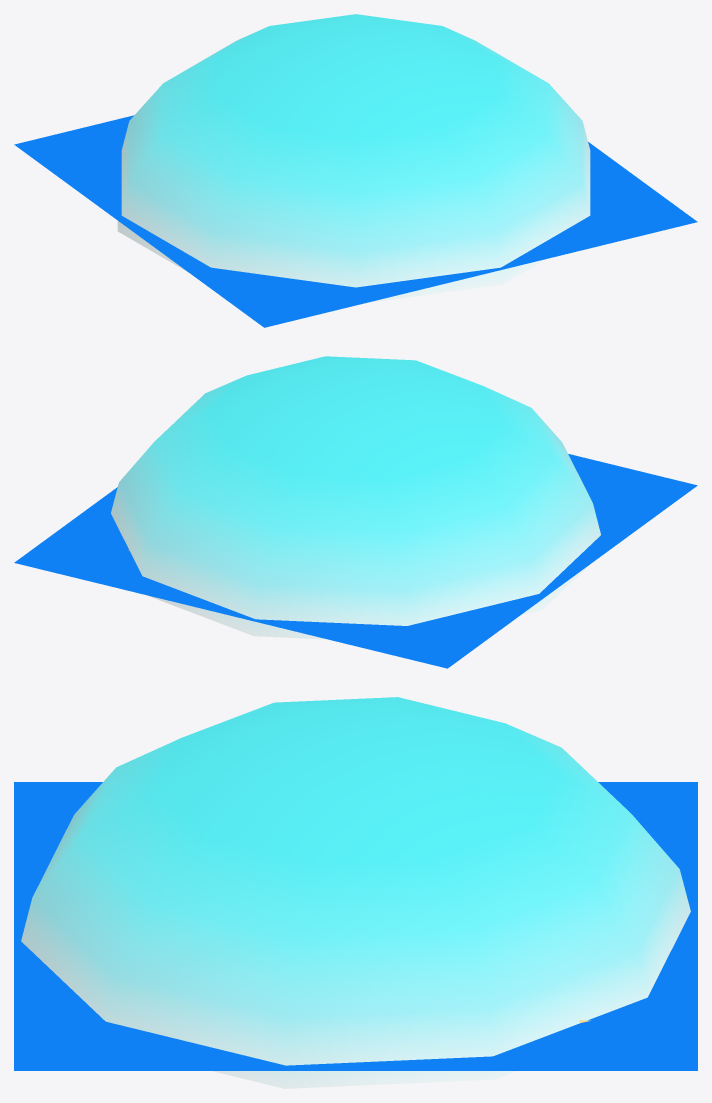
The model's file is skydome-lighthouse.glb.
The picture shows the model from 3 angles, top to bottom: view 1: azimuth 30°, elevation 25°; view 2: azimuth 150°, elevation 25°; view 3: azimuth 270°, elevation 25°; orthographic projection. The views are drawn at different scales.
Parts seen in each view (by area): view 1: Dome, WaterFloor; view 2: Dome, WaterFloor; view 3: Dome, WaterFloor.
Boxes of the visible parts, x1=… form: Dome: x1=117, y1=14, x2=590, y2=303; WaterFloor: x1=14, y1=115, x2=697, y2=327; Dome: x1=111, y1=356, x2=600, y2=639; WaterFloor: x1=14, y1=454, x2=697, y2=668; Dome: x1=21, y1=697, x2=690, y2=1088; WaterFloor: x1=14, y1=782, x2=697, y2=1070.
Size of the model in its own units: 2600 by 879 by 2600.
Materials: 3 (1 with a texture image).
